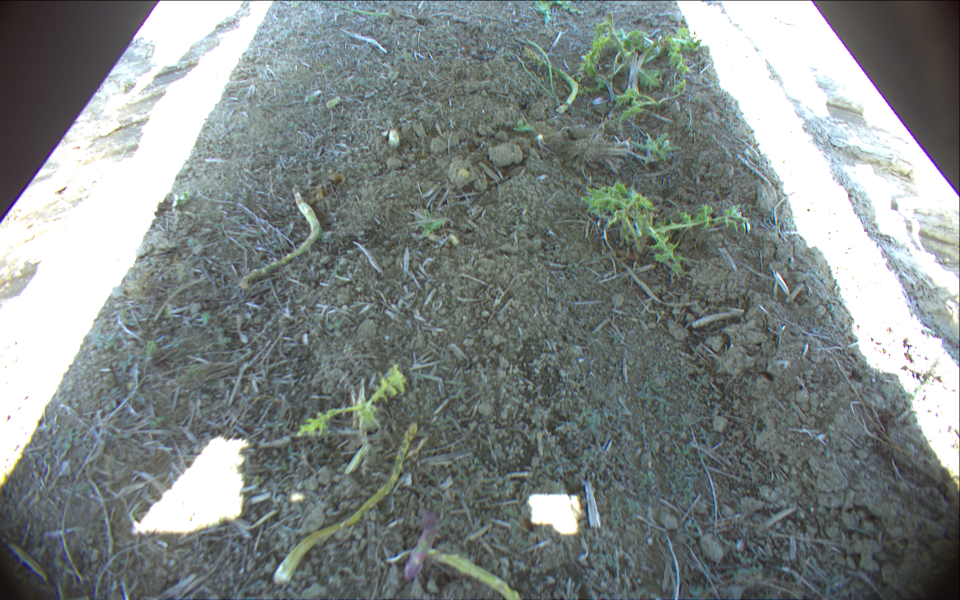aspa: (398, 510, 438, 585)
